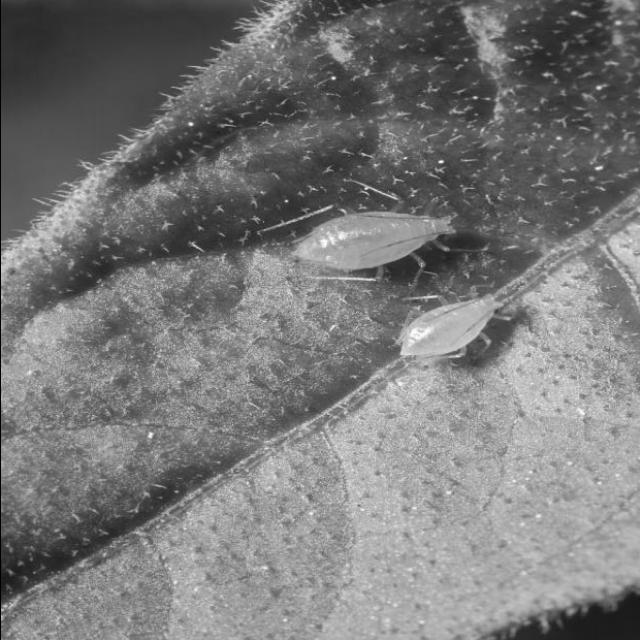Aphids: (224, 166, 492, 305), (374, 268, 525, 389)
